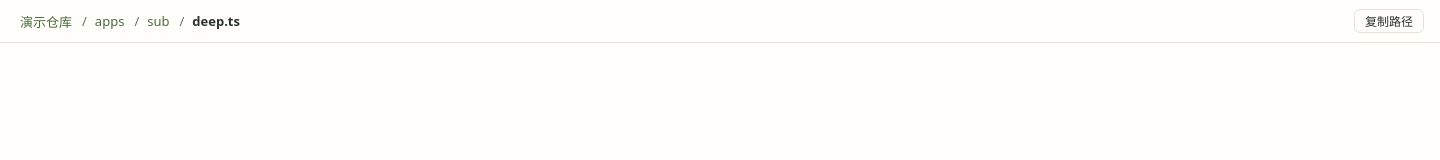
Test: Breadcrumb › 复制路径：点击后写入剪贴板并提示成功
Click the button with class "copy-button": (1389, 21) [1354,9,1424,33]
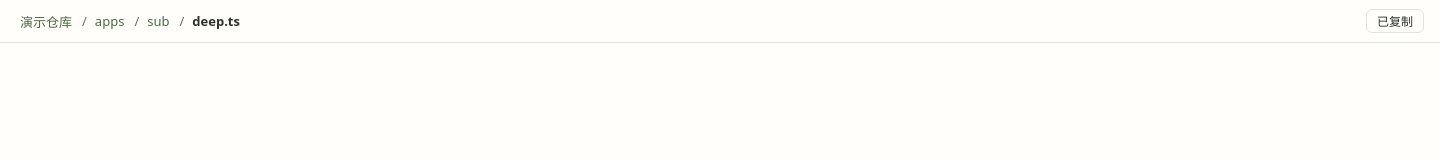
Expected: the button with class "copy-button" reads "已复制", [1366,9,1424,33]
